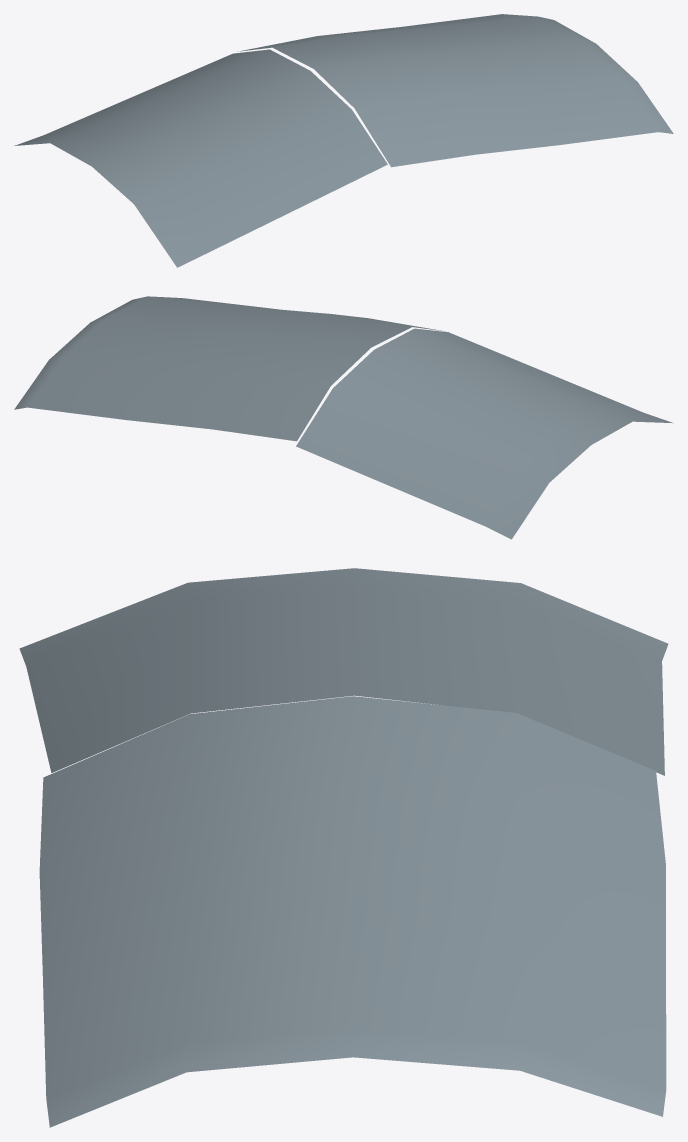
The model's file is ceiling glass.fbx.
3 views of the same model, one above another, from view 1: azimuth 30°, elevation 25°; view 2: azimuth 150°, elevation 25°; view 3: azimuth 270°, elevation 25° (orthographic). The views are drawn at different scales.
Visible parts, largest first — view 1: polySurface206; view 2: polySurface206; view 3: polySurface206.
Boxes of the visible parts, x1,y1,x2,y2 form: polySurface206: (14, 14, 673, 267); polySurface206: (14, 296, 673, 539); polySurface206: (19, 568, 668, 1127).
Bounding box in the file's own units: 12.97 × 2.05 × 7.26.
